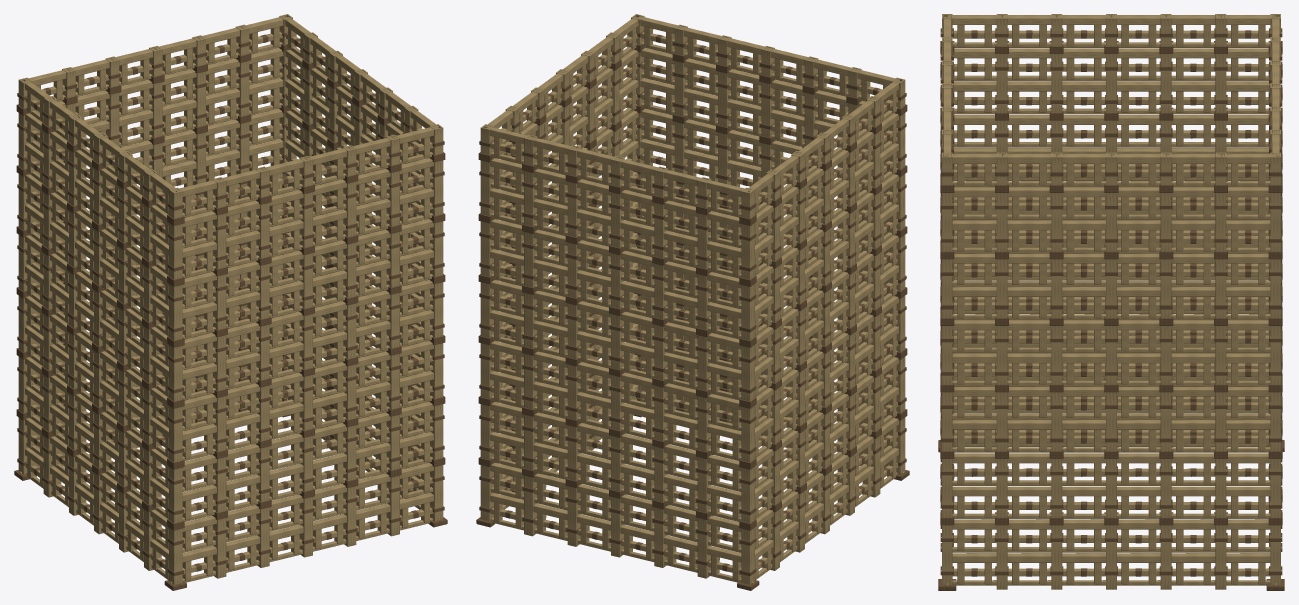
3 views of the same model, side by side, from view 1: azimuth 30°, elevation 25°; view 2: azimuth 150°, elevation 25°; view 3: azimuth 270°, elevation 25° (orthographic). The views are drawn at different scales.
Visible parts, largest first — view 1: Tier 0 side 0 post 0, Tier 1 side 0 post 0, Tier 5 side 0 post 0, Tier 2 side 0 post 0, Tier 4 side 0 post 0, Tier 3 side 0 post 0, Tier 0 side 0 post 1, Tier 0 side 0 post 4, Tier 0 side 0 post 2, Tier 0 side 0 post 5, Tier 0 side 0 post 3, Tier 0 side 1 post 0 (+32 smaller); view 2: Tier 0 side 3 post 0, Tier 1 side 3 post 0, Tier 2 side 3 post 0, Tier 5 side 3 post 0, Tier 4 side 3 post 0, Tier 3 side 3 post 0, Tier 0 side 2 post 5, Tier 0 side 2 post 2, Tier 0 side 2 post 4, Tier 0 side 2 post 1, Tier 0 side 2 post 3, Tier 0 side 2 post 0 (+27 smaller); view 3: Tier 0 side 1 post 1, Tier 0 side 1 post 2, Tier 0 side 1 post 4, Tier 0 side 1 post 5, Tier 0 side 1 post 3, Tier 1 side 1 post 1, Tier 1 side 1 post 2, Tier 1 side 1 post 4, Tier 1 side 1 post 5, Tier 3 side 1 post 1, Tier 3 side 1 post 2, Tier 3 side 1 post 4 (+101 smaller).
Boxes of the visible parts, left/top/right/bottom form: Tier 0 side 0 post 0: left=169, top=527, right=182, bottom=584; Tier 1 side 0 post 0: left=169, top=466, right=182, bottom=523; Tier 5 side 0 post 0: left=169, top=223, right=182, bottom=279; Tier 2 side 0 post 0: left=169, top=406, right=182, bottom=462; Tier 4 side 0 post 0: left=169, top=284, right=182, bottom=340; Tier 3 side 0 post 0: left=169, top=345, right=182, bottom=401; Tier 0 side 0 post 1: left=213, top=518, right=226, bottom=578; Tier 0 side 0 post 4: left=343, top=486, right=356, bottom=546; Tier 0 side 0 post 2: left=256, top=507, right=269, bottom=567; Tier 0 side 0 post 5: left=386, top=475, right=399, bottom=536; Tier 0 side 0 post 3: left=299, top=497, right=312, bottom=557; Tier 0 side 1 post 0: left=430, top=465, right=443, bottom=521; Tier 0 side 3 post 0: left=741, top=527, right=754, bottom=584; Tier 1 side 3 post 0: left=741, top=466, right=754, bottom=523; Tier 2 side 3 post 0: left=741, top=406, right=754, bottom=462; Tier 5 side 3 post 0: left=741, top=223, right=754, bottom=279; Tier 4 side 3 post 0: left=741, top=284, right=754, bottom=340; Tier 3 side 3 post 0: left=741, top=345, right=754, bottom=401; Tier 0 side 2 post 5: left=697, top=518, right=710, bottom=578; Tier 0 side 2 post 2: left=567, top=486, right=580, bottom=546; Tier 0 side 2 post 4: left=654, top=507, right=667, bottom=567; Tier 0 side 2 post 1: left=524, top=475, right=537, bottom=536; Tier 0 side 2 post 3: left=611, top=497, right=623, bottom=557; Tier 0 side 2 post 0: left=480, top=465, right=493, bottom=521; Tier 0 side 1 post 1: left=996, top=525, right=1007, bottom=589; Tier 0 side 1 post 2: left=1051, top=525, right=1062, bottom=589; Tier 0 side 1 post 4: left=1160, top=525, right=1171, bottom=589; Tier 0 side 1 post 5: left=1215, top=525, right=1226, bottom=589; Tier 0 side 1 post 3: left=1106, top=525, right=1116, bottom=589; Tier 1 side 1 post 1: left=996, top=459, right=1007, bottom=517; Tier 1 side 1 post 2: left=1051, top=459, right=1062, bottom=517; Tier 1 side 1 post 4: left=1160, top=459, right=1171, bottom=517; Tier 1 side 1 post 5: left=1215, top=459, right=1226, bottom=517; Tier 3 side 1 post 1: left=996, top=326, right=1007, bottom=384; Tier 3 side 1 post 2: left=1051, top=326, right=1062, bottom=384; Tier 3 side 1 post 4: left=1160, top=326, right=1171, bottom=384.
Size of the model in its own units: 2.85 by 3.92 by 2.85.
Materials: 2 (2 with a texture image).
